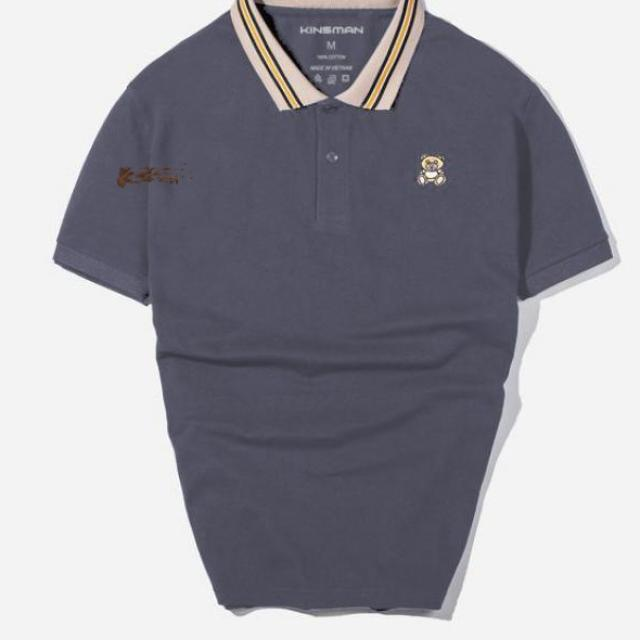stain: (109, 155, 203, 198)
